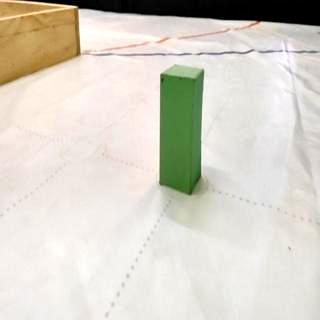greenbox: (160, 64, 205, 195)
